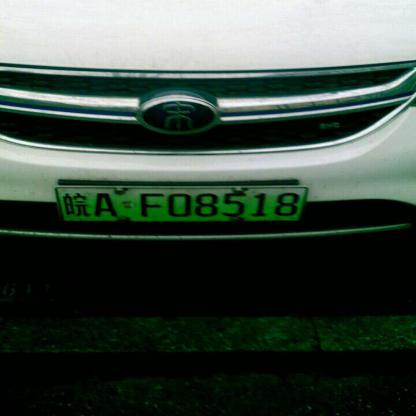lp: (55, 187, 64, 220)
